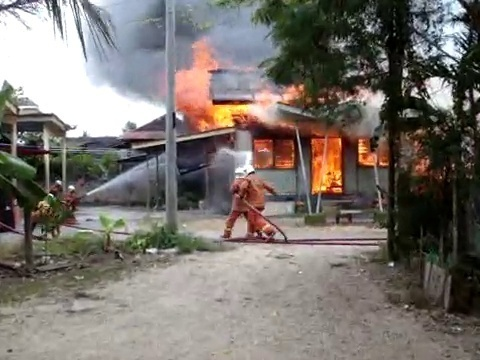fire: (178, 37, 384, 200)
